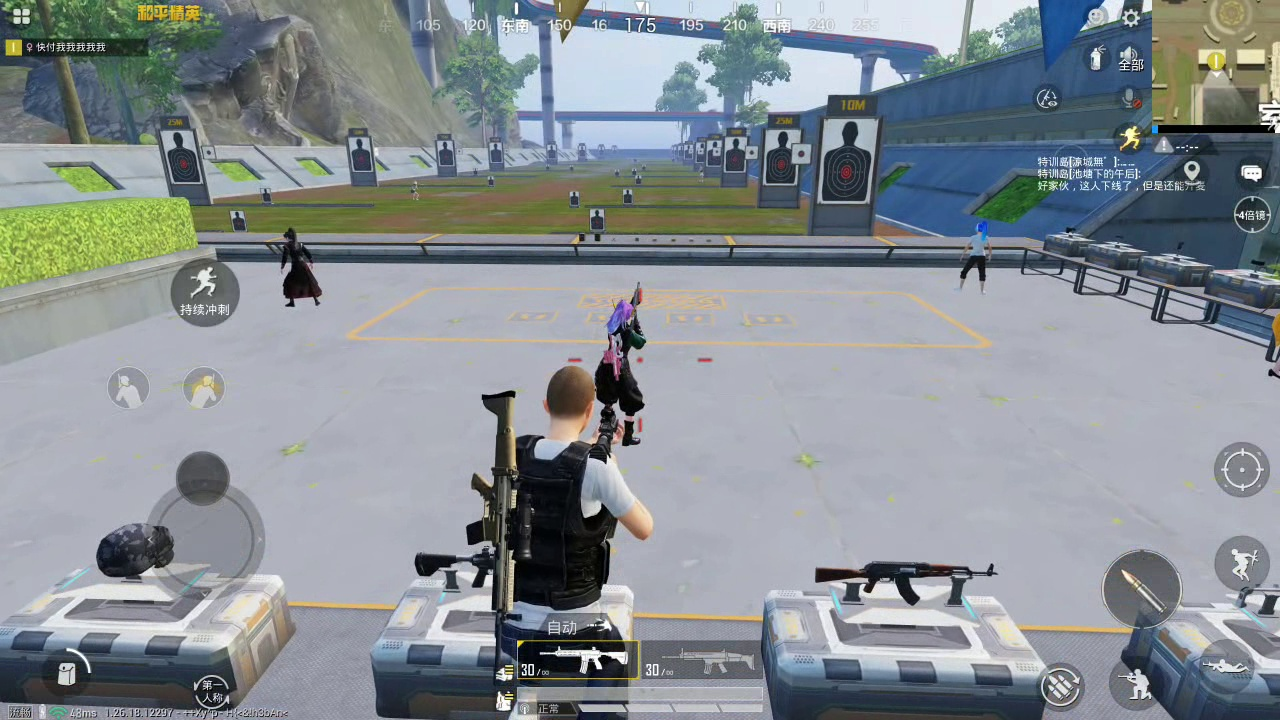enemy: (598, 296, 646, 449), (278, 226, 326, 306), (957, 220, 991, 295)
